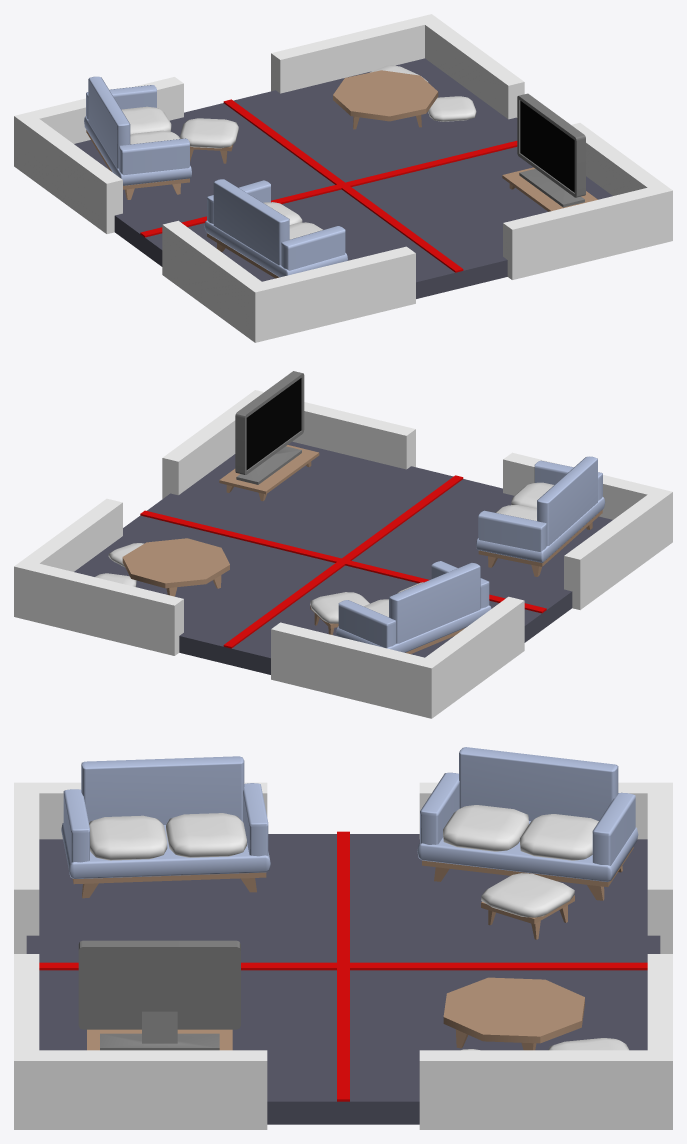
File: X_Salon_Classique.fbx
3 renders of one model, top to bottom at view 1: azimuth 30°, elevation 25°; view 2: azimuth 150°, elevation 25°; view 3: azimuth 270°, elevation 25°, orthographic. The views are drawn at different scales.
Parts seen in each view (by area): view 1: X_Salon_Classique; view 2: X_Salon_Classique; view 3: X_Salon_Classique.
Boxes of the visible parts, box(x1,y1,x2,y2) form: X_Salon_Classique: box(14, 14, 672, 342); X_Salon_Classique: box(14, 371, 672, 718); X_Salon_Classique: box(14, 747, 672, 1129).
Size of the model in its own units: 26 by 6.13 by 26.
